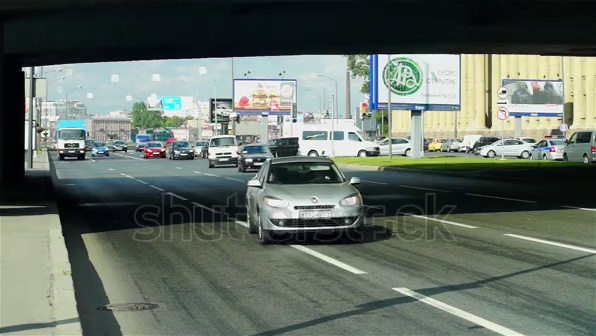licenseplate: (249, 264, 279, 281), (455, 289, 487, 301)
